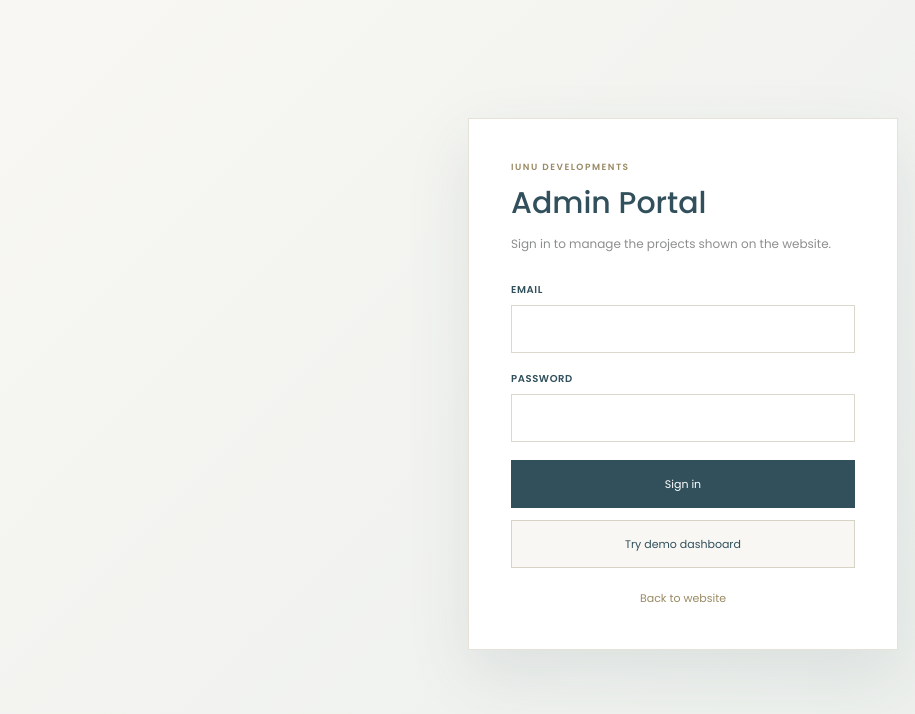
Scenario: Admin dashboard › a failed login shows the error and stays on the sign-in form
Type "admin@cypress.test" into the field labelled "Email" at (683, 329), box [511,305,855,353]
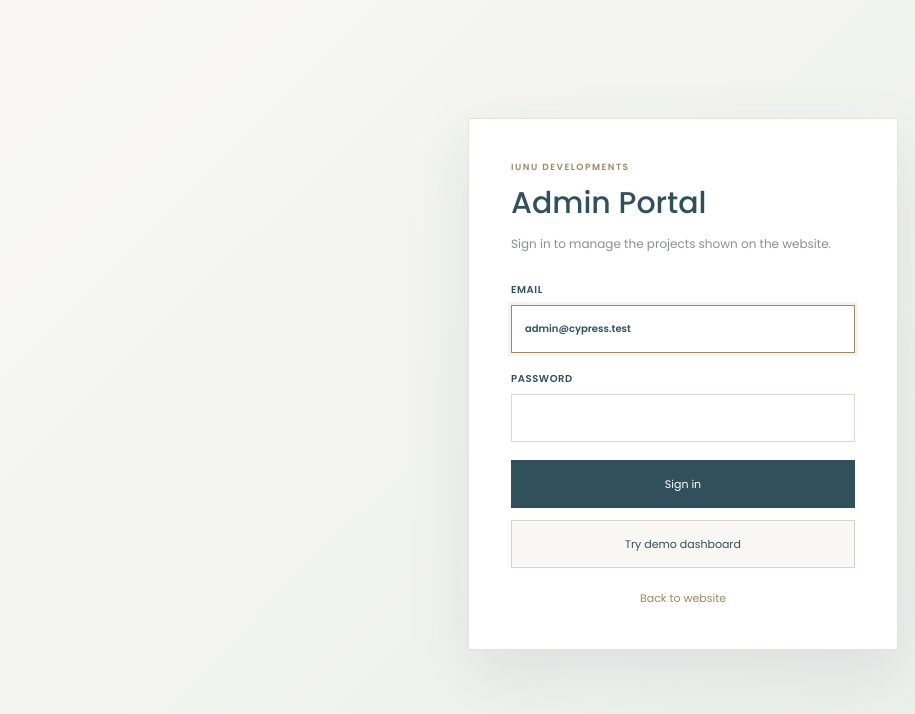
Type "not-a-real-password" into the password field labelled "Password" at (683, 418), box [511,394,855,442]
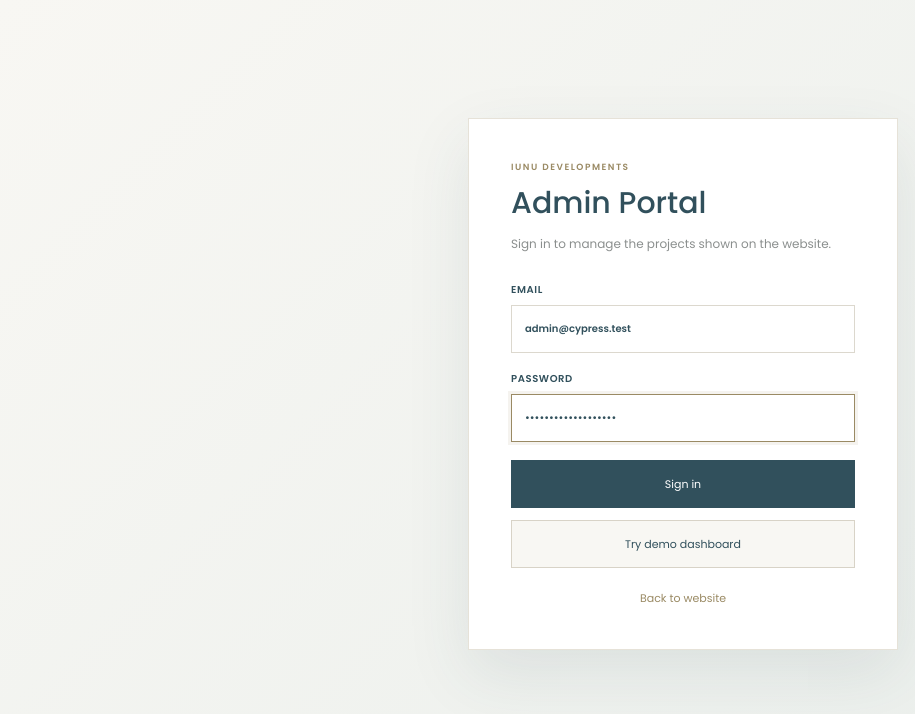
Click the button "Sign in" at (683, 484), box [511,460,855,508]
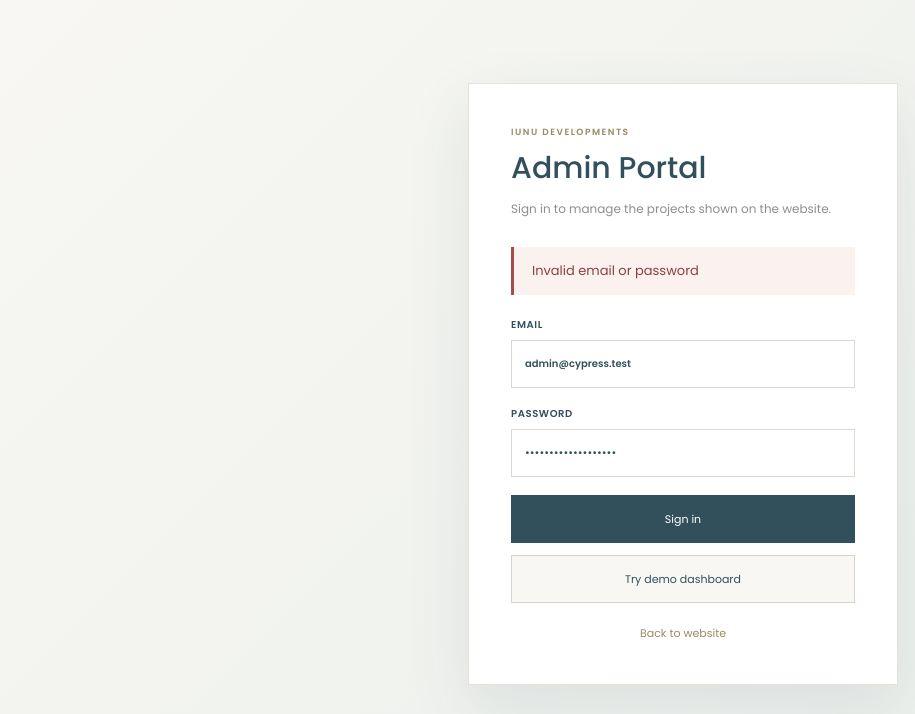
Expected: the heading "Admin Portal" is shown, [511,147,706,189]
Now the text "Invalid email or password" is shown, box [511,247,855,295]
